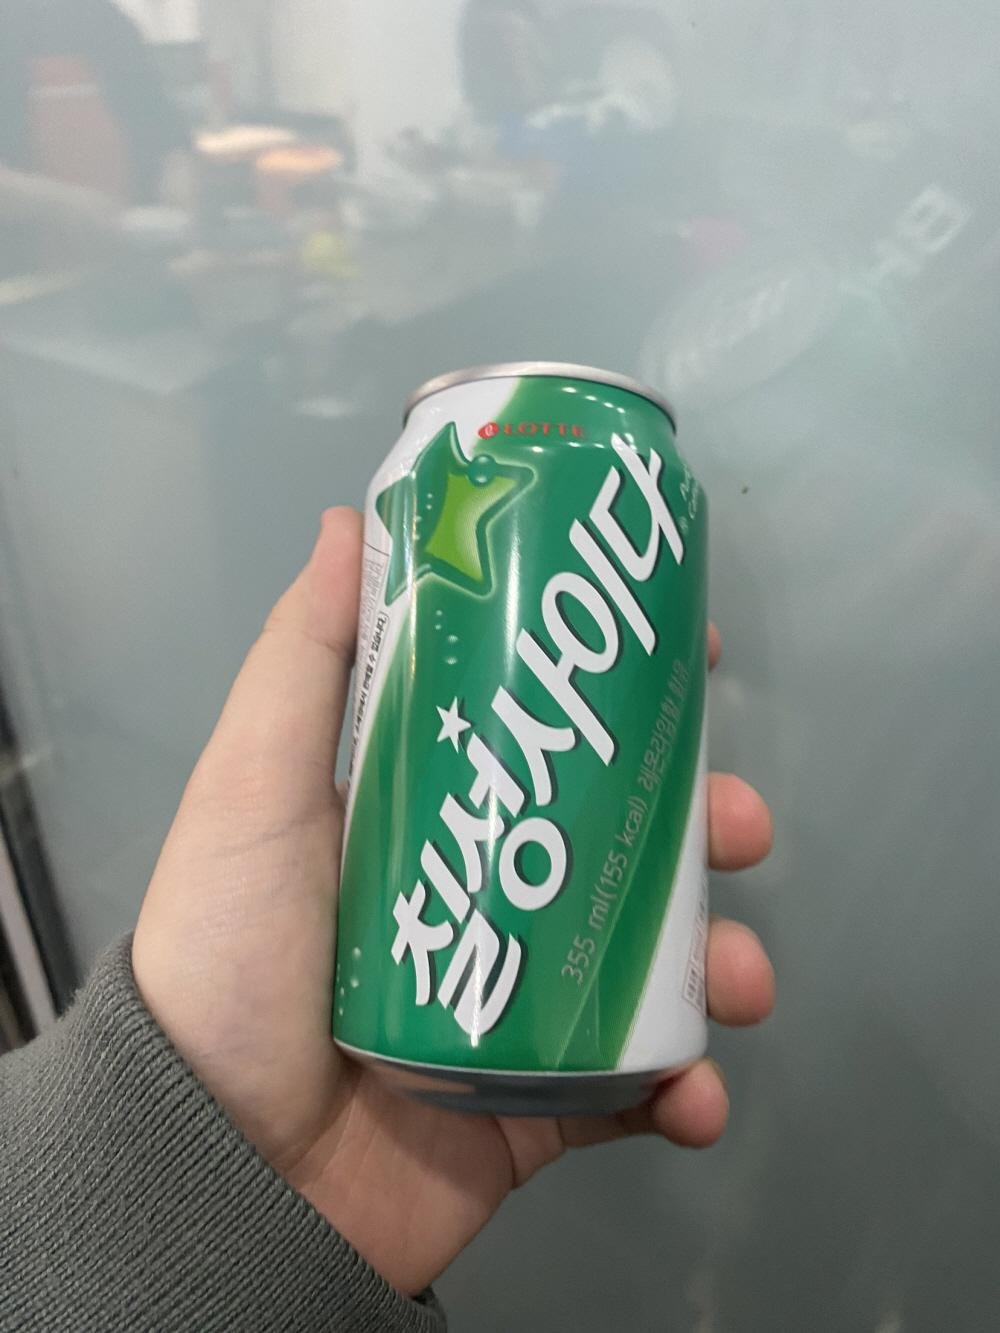chilsungcider: (341, 357, 736, 1094)
